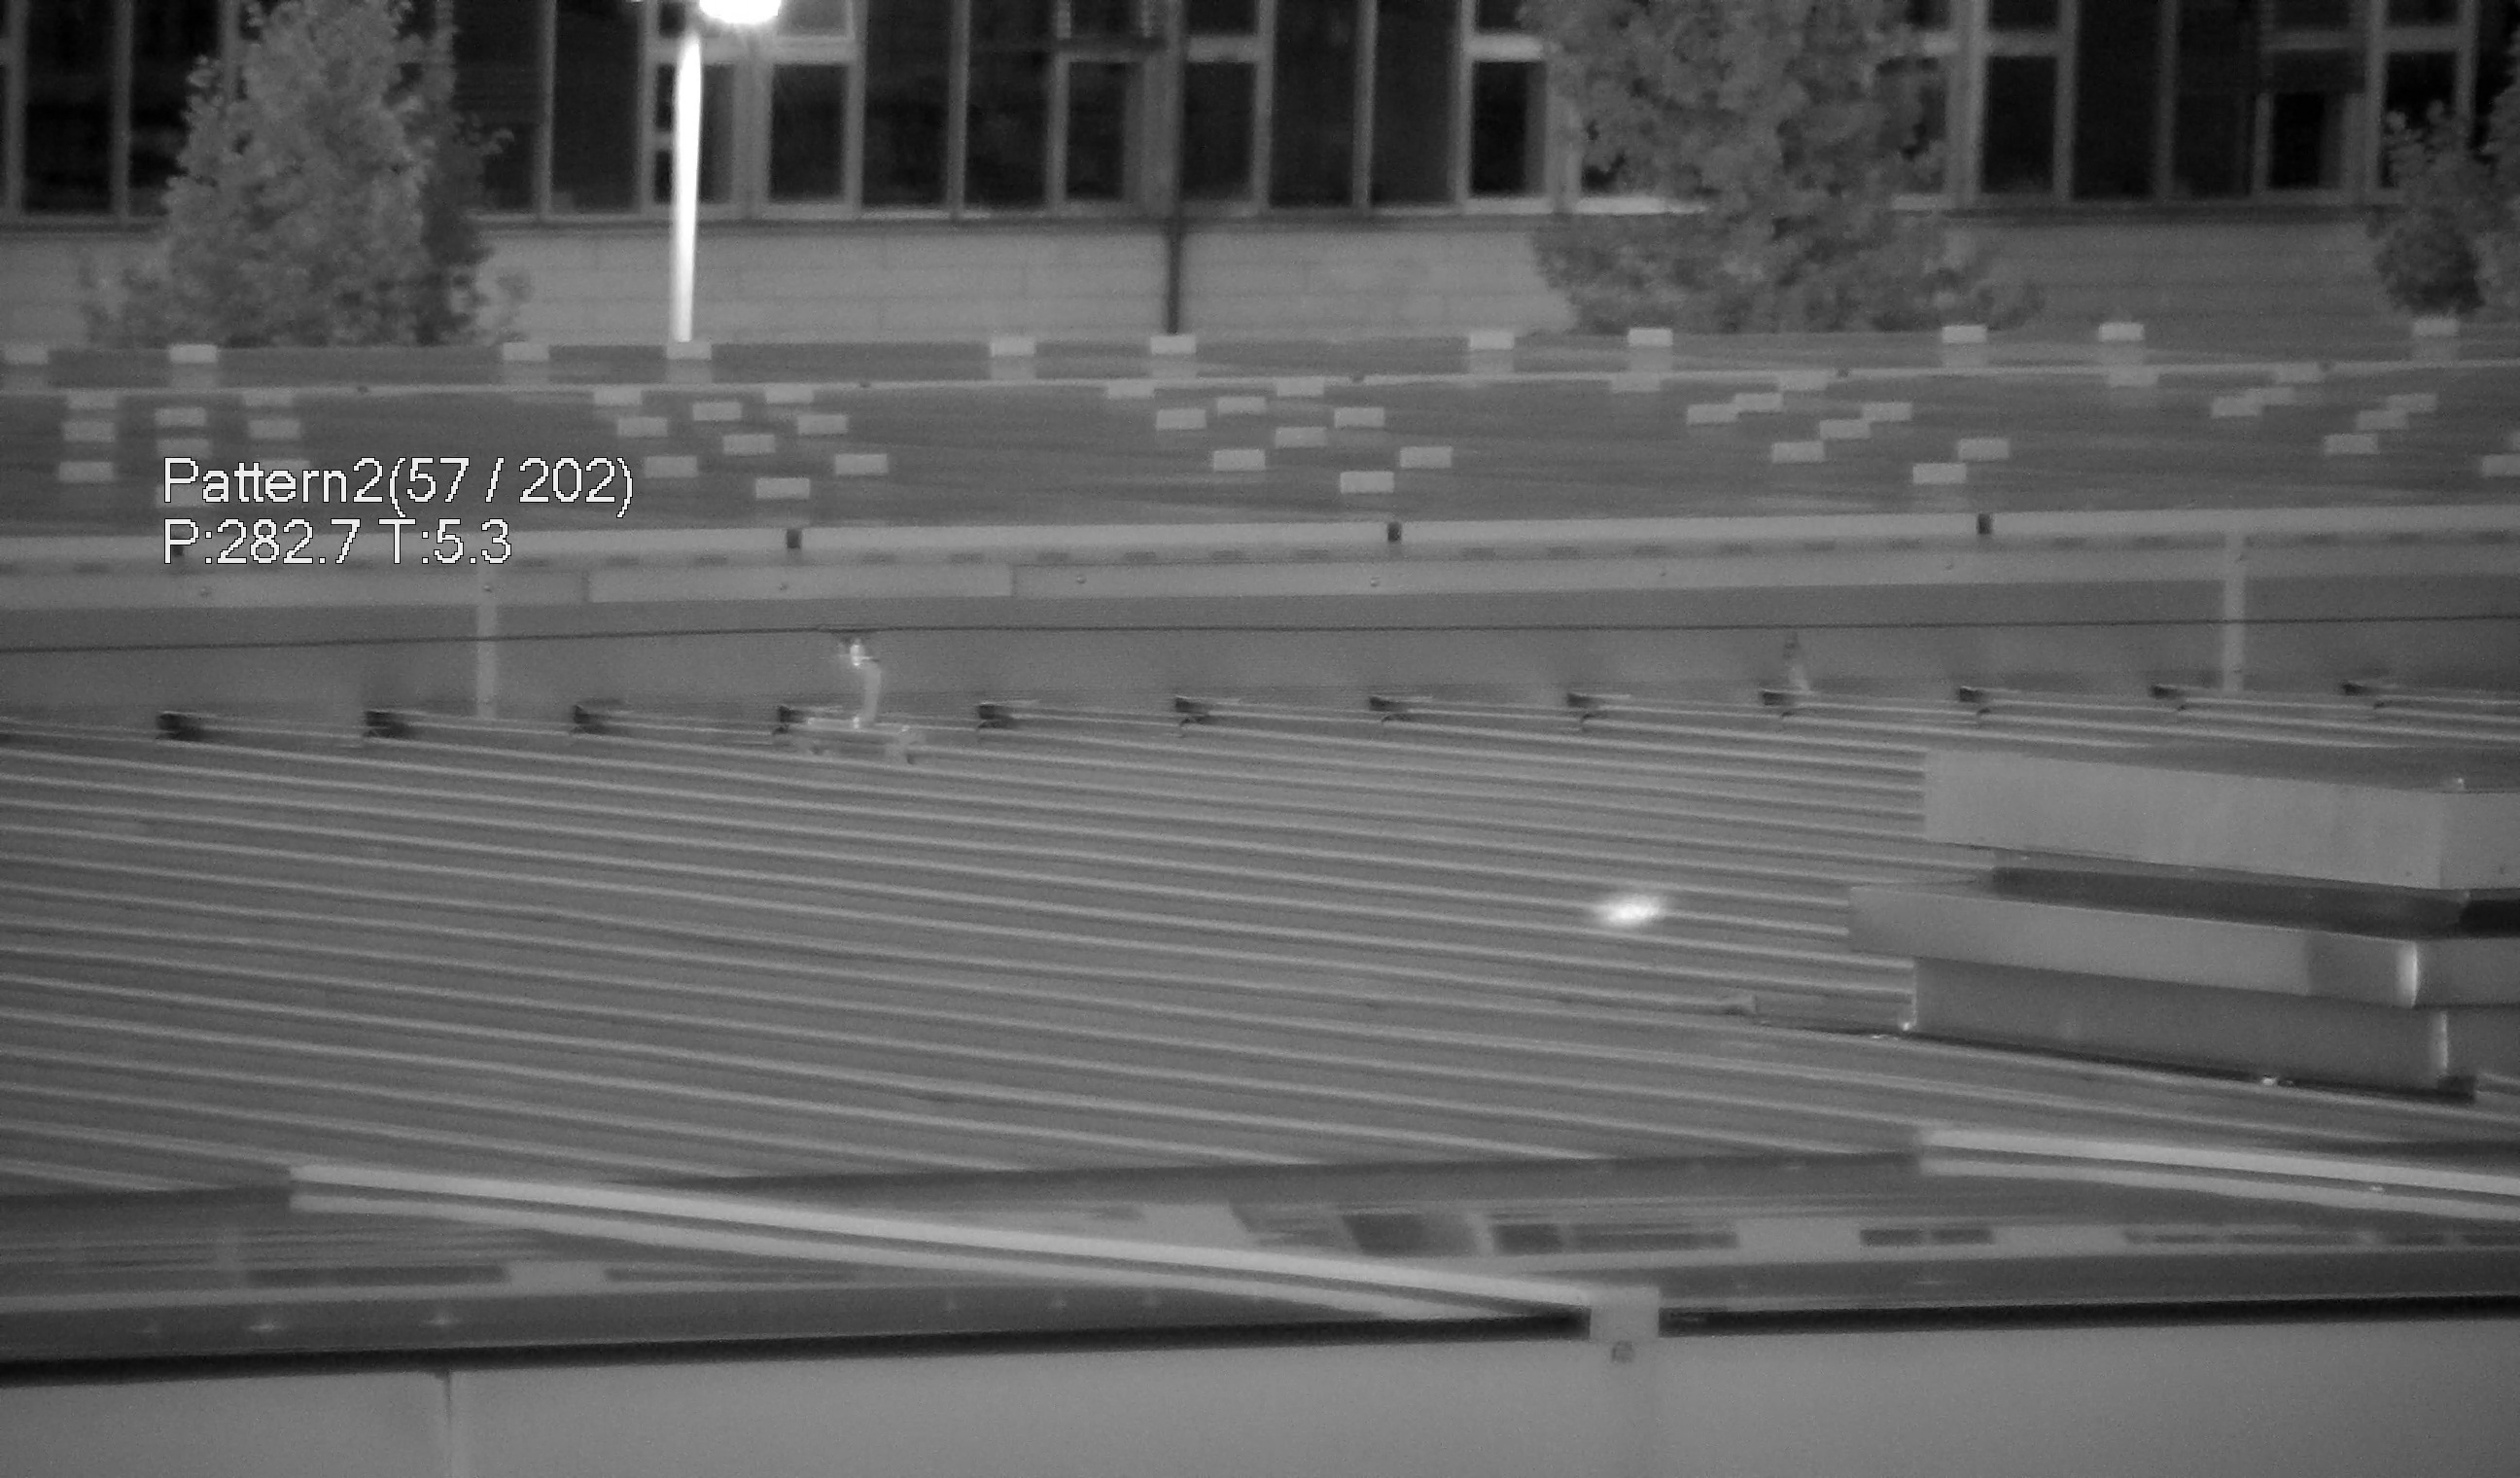Other: (1759, 626, 1829, 721)
